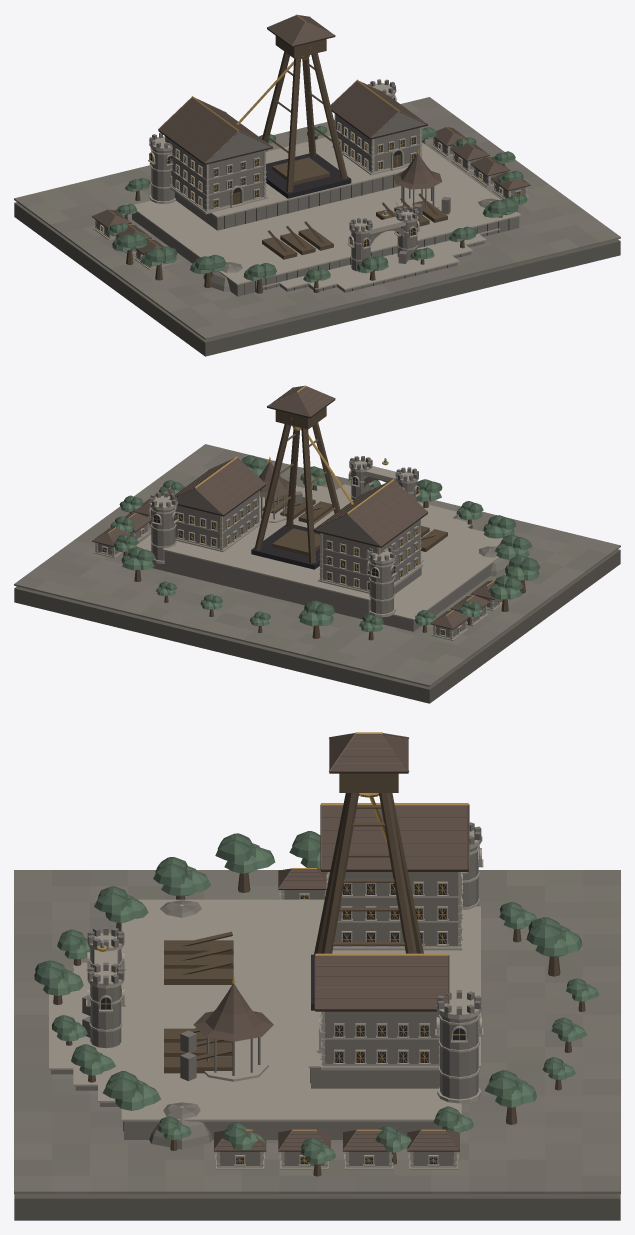
Rendered from delve.glb.
The picture shows the model from 3 angles, top to bottom: view 1: azimuth 30°, elevation 25°; view 2: azimuth 150°, elevation 25°; view 3: azimuth 270°, elevation 25°; orthographic projection. The views are drawn at different scales.
Parts seen in each view (by area): view 1: site, spoil-terraces, counting-hall, counting-hall-roof, landscape, headframe, ore-yard, landscape-roof, headframe-roof, ore-yard-roof; view 2: site, spoil-terraces, counting-hall, landscape, counting-hall-roof, headframe, ore-yard, landscape-roof, headframe-roof, ore-yard-roof; view 3: site, spoil-terraces, landscape, counting-hall, counting-hall-roof, ore-yard, headframe, landscape-roof, headframe-roof, ore-yard-roof, counting-hall-ornament.
Boxes of the visible parts, <box> form: site: <box>14,97,620,356</box>; spoil-terraces: <box>132,136,521,296</box>; counting-hall: <box>148,83,439,214</box>; counting-hall-roof: <box>149,79,442,189</box>; landscape: <box>93,125,529,293</box>; headframe: <box>236,36,351,198</box>; ore-yard: <box>203,193,497,291</box>; landscape-roof: <box>92,127,530,254</box>; headframe-roof: <box>267,14,335,47</box>; ore-yard-roof: <box>349,206,418,231</box>; site: <box>14,444,620,703</box>; spoil-terraces: <box>136,484,502,631</box>; counting-hall: <box>148,490,422,617</box>; landscape: <box>93,455,540,640</box>; counting-hall-roof: <box>149,456,427,561</box>; headframe: <box>251,407,353,569</box>; ore-yard: <box>262,460,510,576</box>; landscape-roof: <box>92,485,495,629</box>; headframe-roof: <box>267,385,335,418</box>; ore-yard-roof: <box>349,456,418,481</box>; site: <box>14,870,620,1220</box>; spoil-terraces: <box>49,899,480,1139</box>; landscape: <box>34,831,599,1176</box>; counting-hall: <box>204,830,483,1104</box>; counting-hall-roof: <box>193,803,481,1041</box>; ore-yard: <box>86,900,233,1149</box>; headframe: <box>311,773,423,1010</box>; landscape-roof: <box>213,868,459,1151</box>; headframe-roof: <box>329,732,409,773</box>; ore-yard-roof: <box>87,926,124,985</box>; counting-hall-ornament: <box>180,1030,196,1080</box>.
Size of the model in its own units: 59.01 by 28.03 by 47.06.
